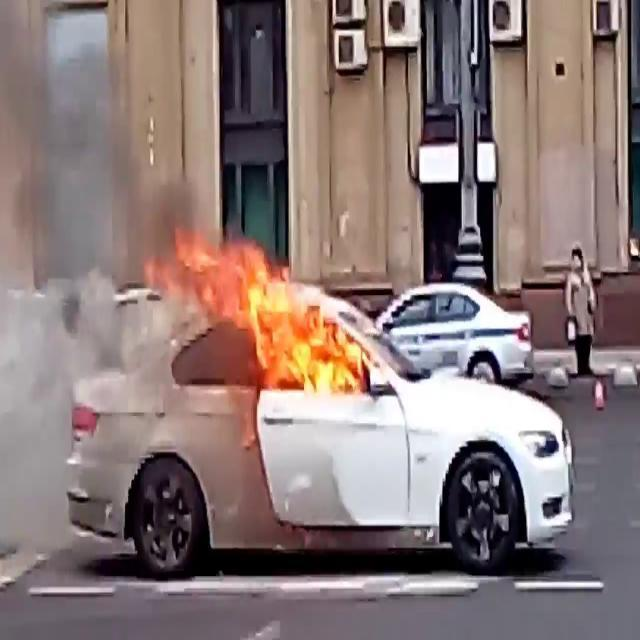Fire: (168, 221, 374, 399)
Smoke: (0, 2, 200, 310)
